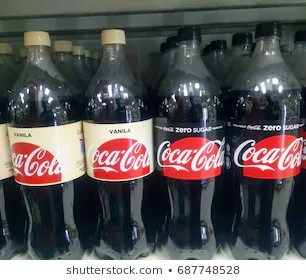coke-bottle-2l: (5, 27, 90, 261), (226, 23, 301, 255), (83, 24, 157, 258), (155, 23, 226, 260)
